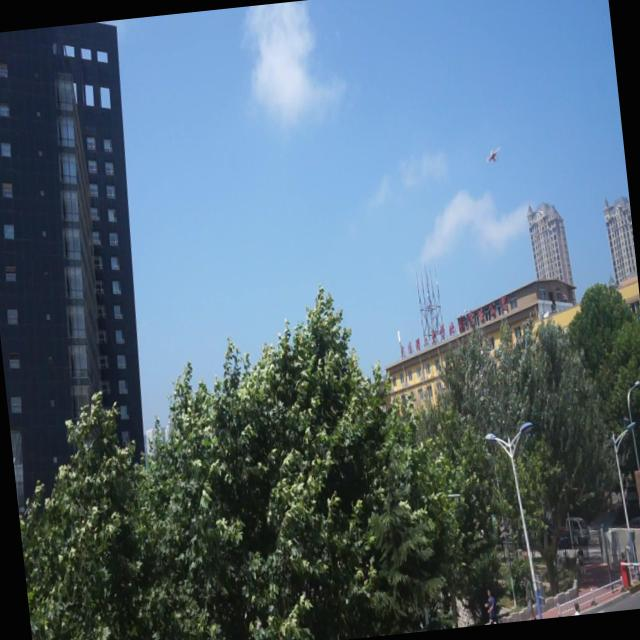drone: (484, 145, 502, 167)
